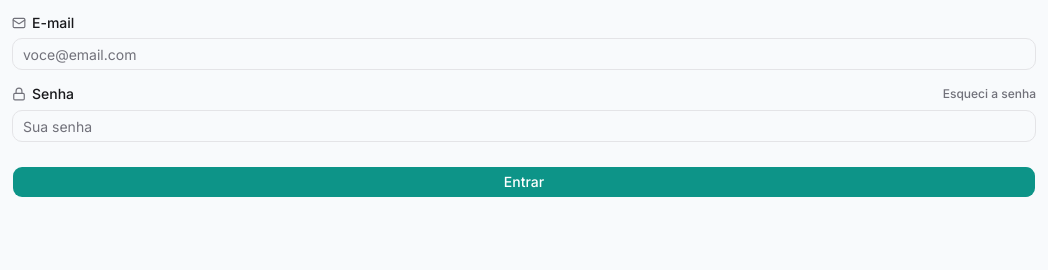
LoginForm › shows validation error for empty fields
The width and height of the screenshot is (1048, 270).
Click the button "Entrar".
click(524, 182)  # box [12,166,1036,198]
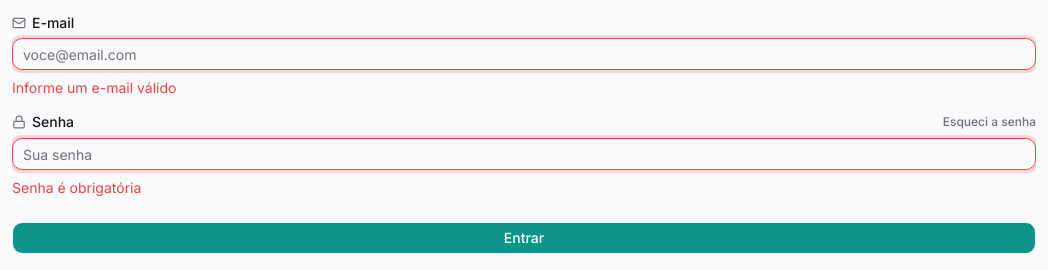
Expected: the text "Senha é obrigatória" is shown, [12,179,141,196]
